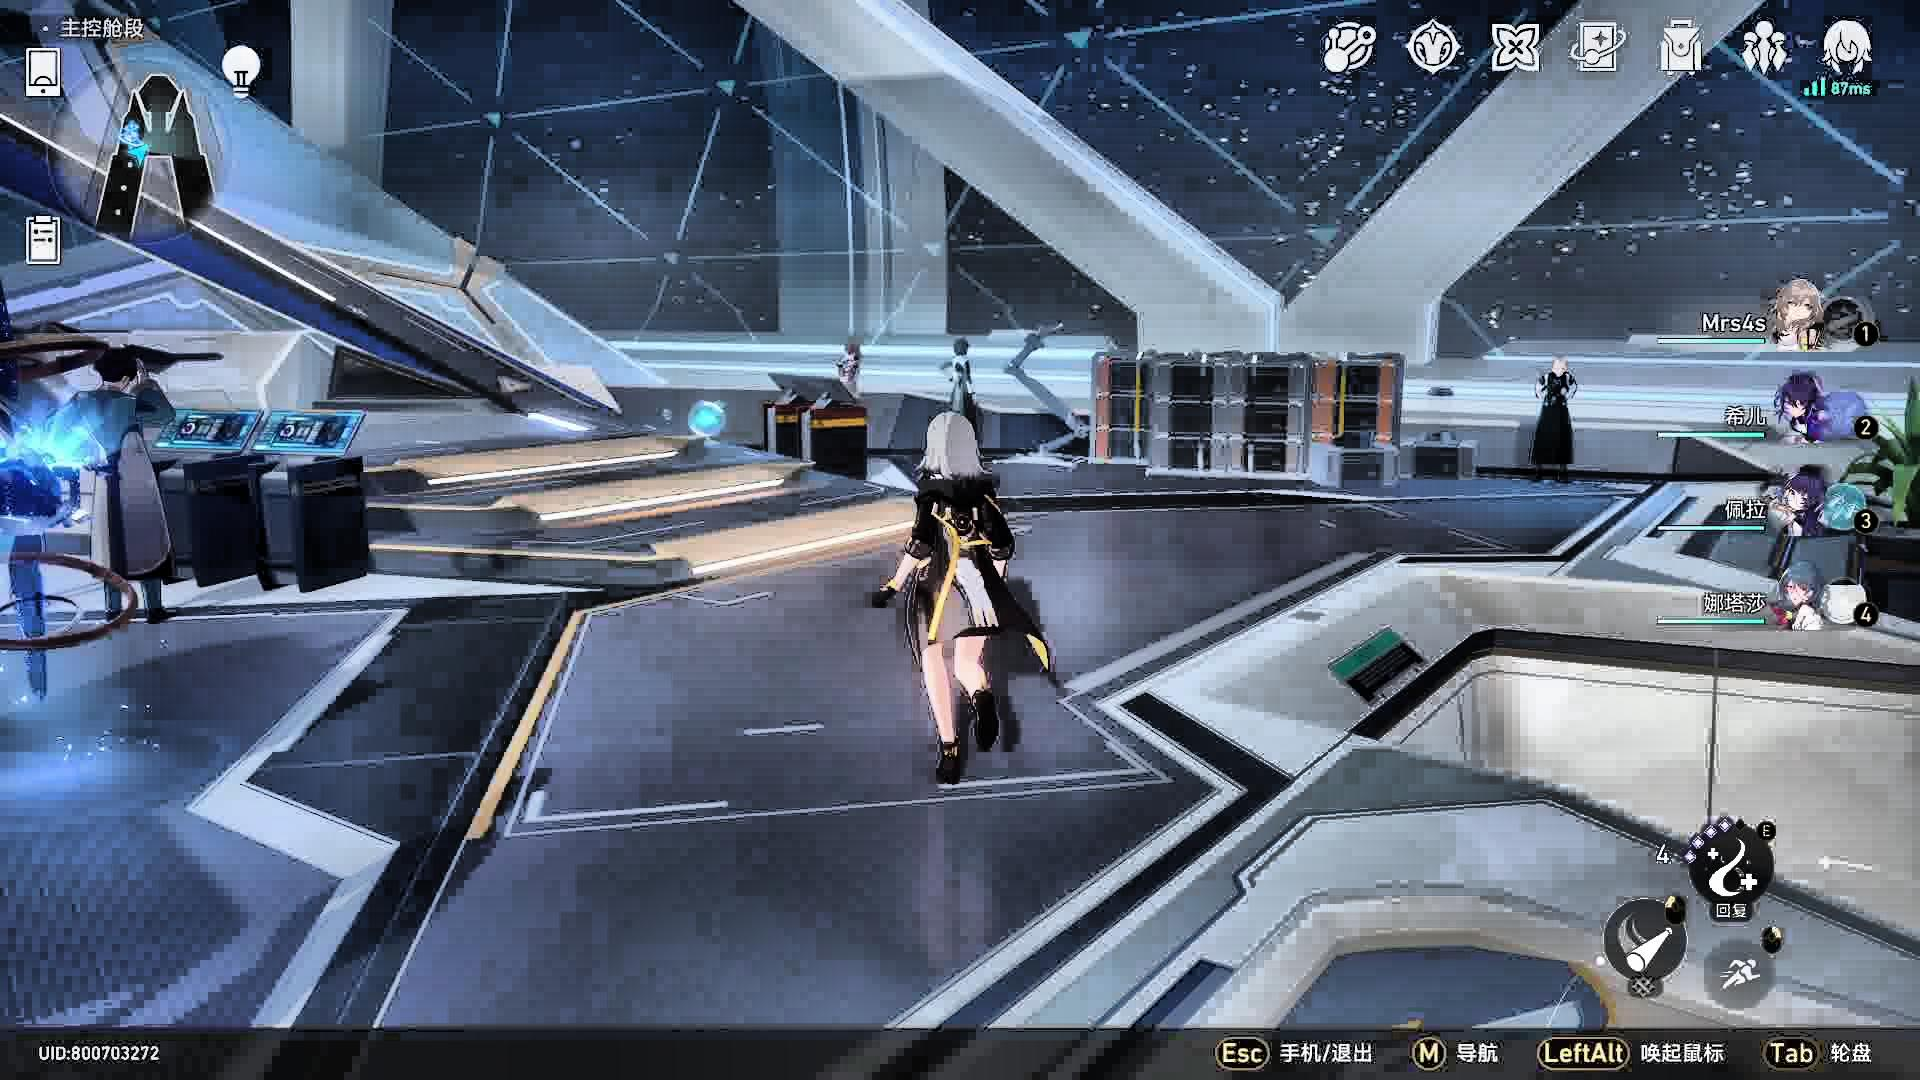Self: (885, 413, 1051, 798)
TeamMate: (66, 343, 182, 633), (1528, 351, 1586, 483), (935, 320, 977, 419), (835, 331, 865, 398)
